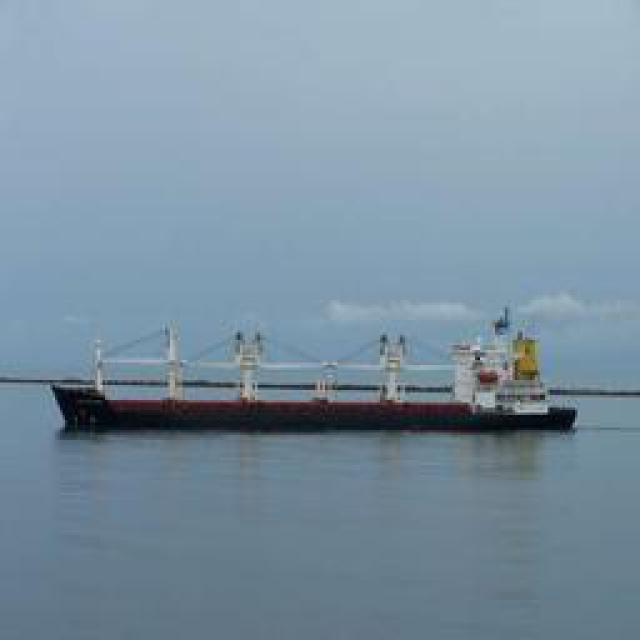Ship: (62, 316, 575, 434)
